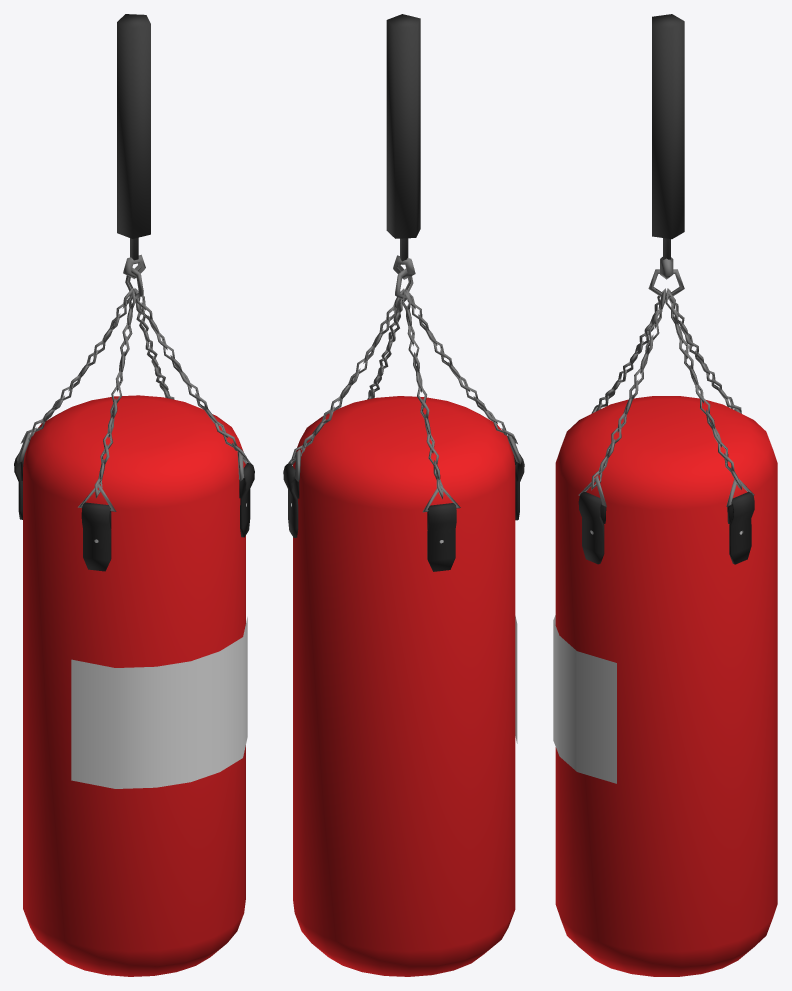
File: sand_bag.fbx
3 views of the same model, side by side, from view 1: azimuth 30°, elevation 25°; view 2: azimuth 150°, elevation 25°; view 3: azimuth 270°, elevation 25° (orthographic).
Parts seen in each view (by area): view 1: SandBag; view 2: SandBag; view 3: SandBag.
Boxes of the visible parts, x1,y1,x2,y2 form: SandBag: (14, 14, 254, 976); SandBag: (283, 14, 524, 976); SandBag: (553, 14, 777, 976).
Bounding box in the file's own units: 40 × 186 × 40.41.
